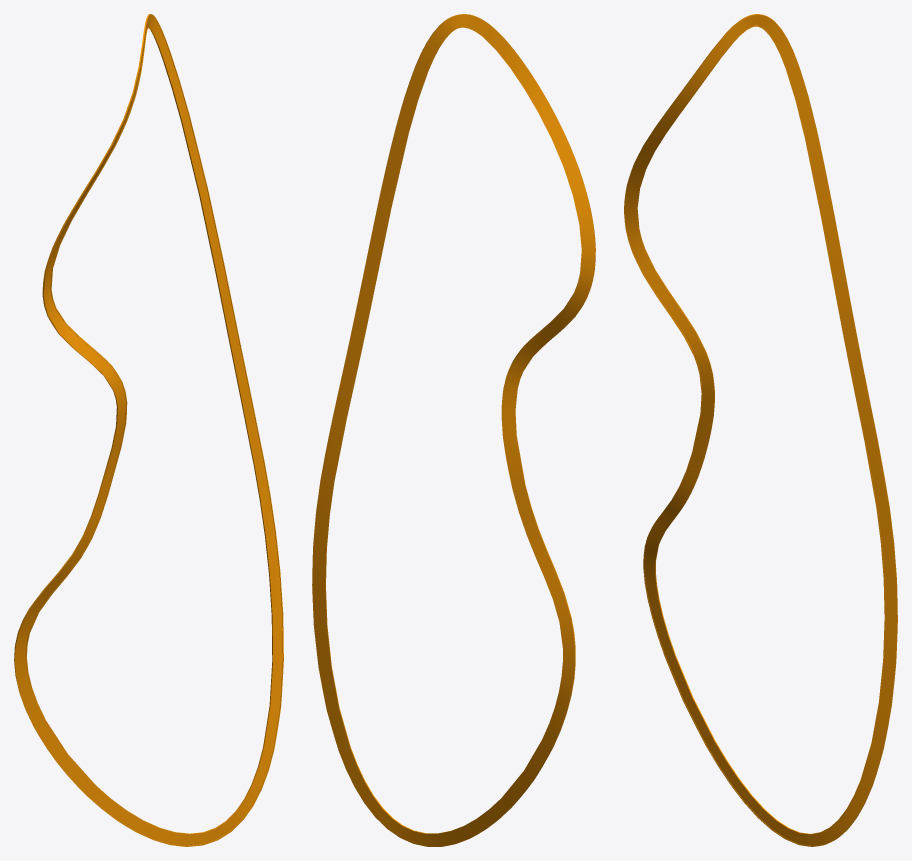
File: pista v1.obj
3 renders of one model, left to right at view 1: azimuth 30°, elevation 25°; view 2: azimuth 150°, elevation 25°; view 3: azimuth 330°, elevation 25°, orthographic. The views are drawn at different scales.
Visible parts, largest first — view 1: Cuerpo1, Cuerpo2, Cuerpo3; view 2: Cuerpo1, Cuerpo2, Cuerpo3; view 3: Cuerpo1, Cuerpo2, Cuerpo3.
Boxes of the visible parts, left/top/right/bottom form: Cuerpo1: left=15, top=15, right=282, bottom=845; Cuerpo2: left=14, top=14, right=283, bottom=846; Cuerpo3: left=26, top=27, right=273, bottom=834; Cuerpo1: left=313, top=15, right=594, bottom=845; Cuerpo2: left=312, top=14, right=595, bottom=846; Cuerpo3: left=324, top=26, right=582, bottom=834; Cuerpo1: left=625, top=15, right=896, bottom=845; Cuerpo2: left=624, top=14, right=897, bottom=846; Cuerpo3: left=636, top=25, right=885, bottom=835.
Bounding box in the file's own units: 32.59 × 99.02 × 8.39.
